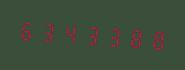eight: (122, 22, 142, 53), (143, 23, 163, 54)
four: (59, 17, 79, 49)
six: (17, 14, 37, 46)
three: (101, 20, 121, 52), (38, 16, 58, 47), (80, 19, 100, 50)
